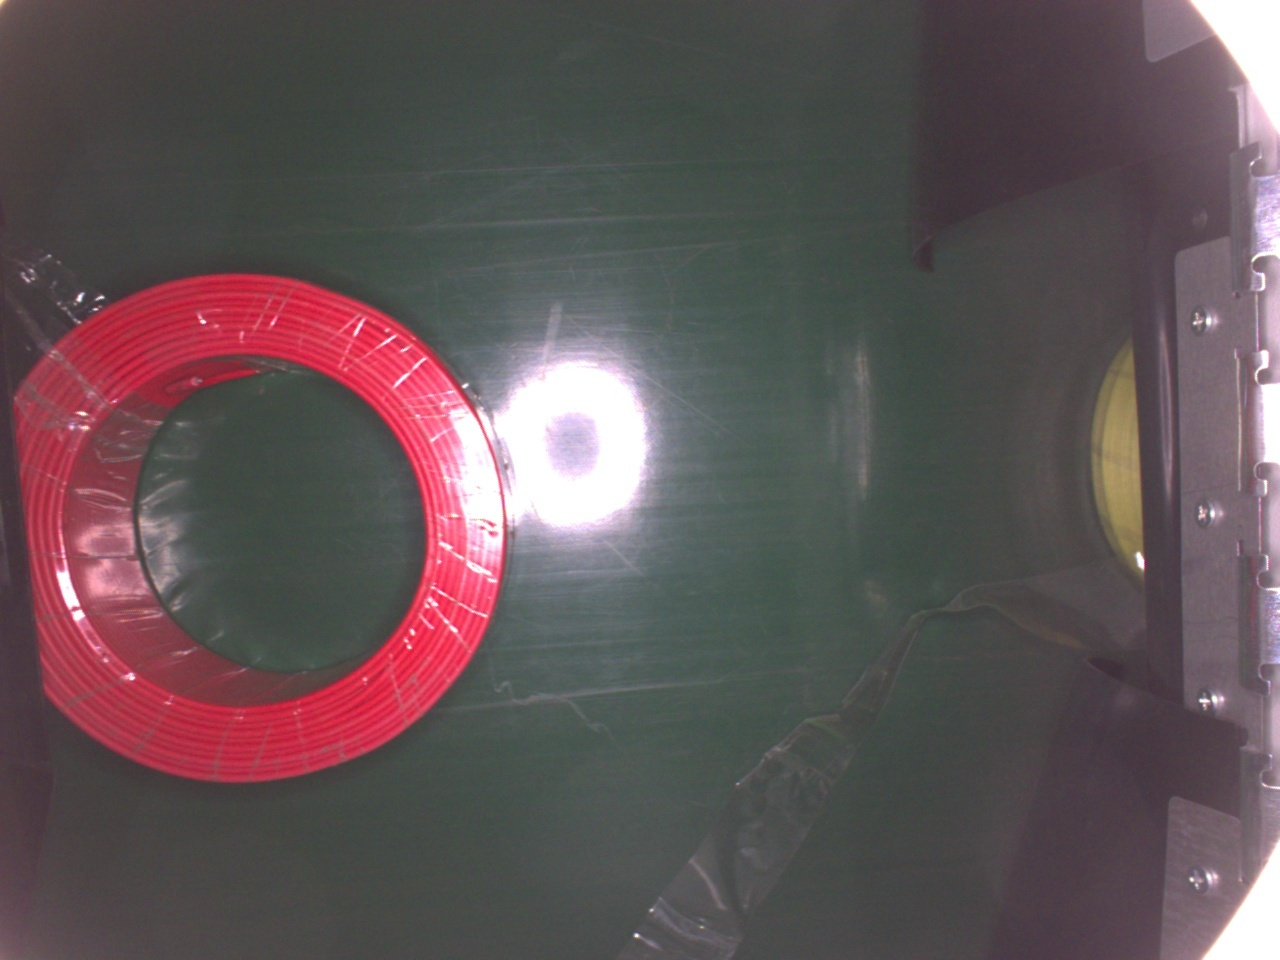red: (15, 265, 519, 783)
